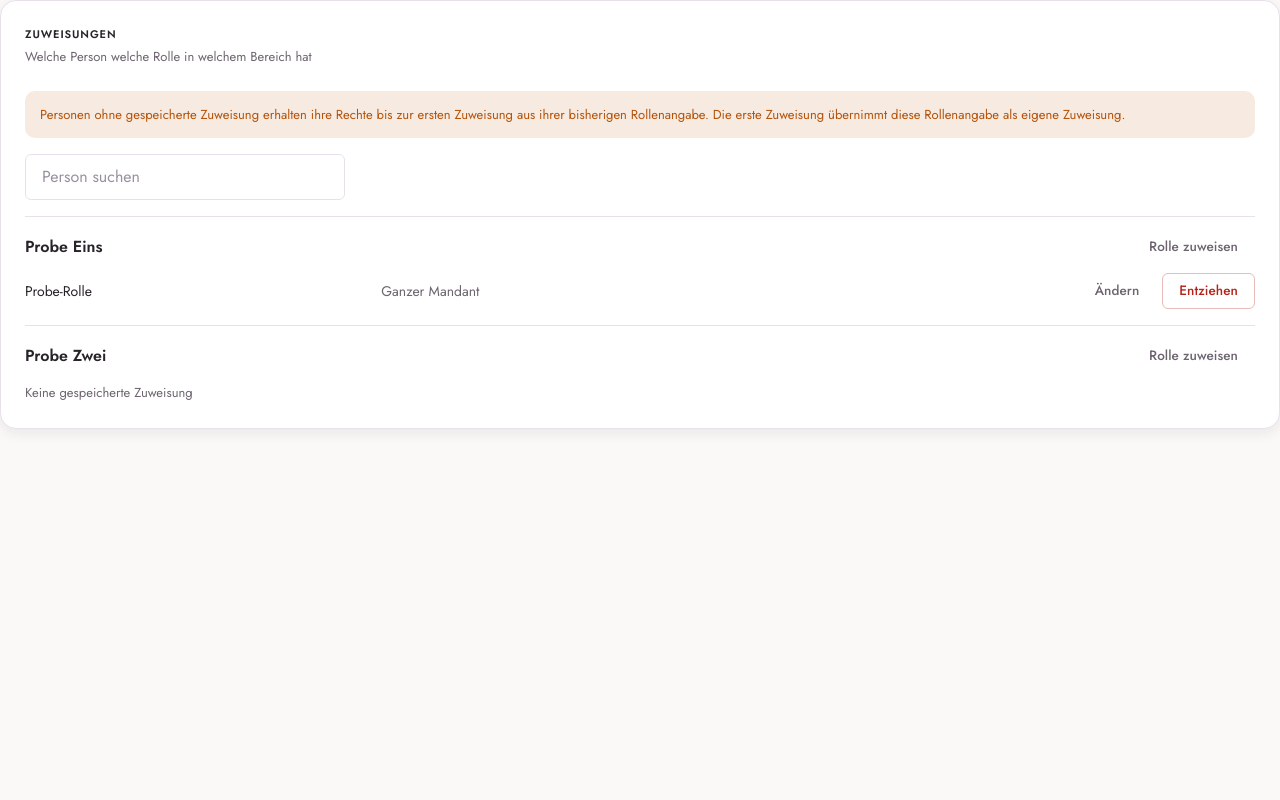
Test: AssignmentsTab (Issue #83) › revoke goes through a confirmation; a rejection is shown, never thrown
The width and height of the screenshot is (1280, 800).
Check: the text "Probe Eins" is shown, box [25,234,102,260]
Click the button "Entziehen" at {"x": 1209, "y": 291}, box [1162,273,1255,309]
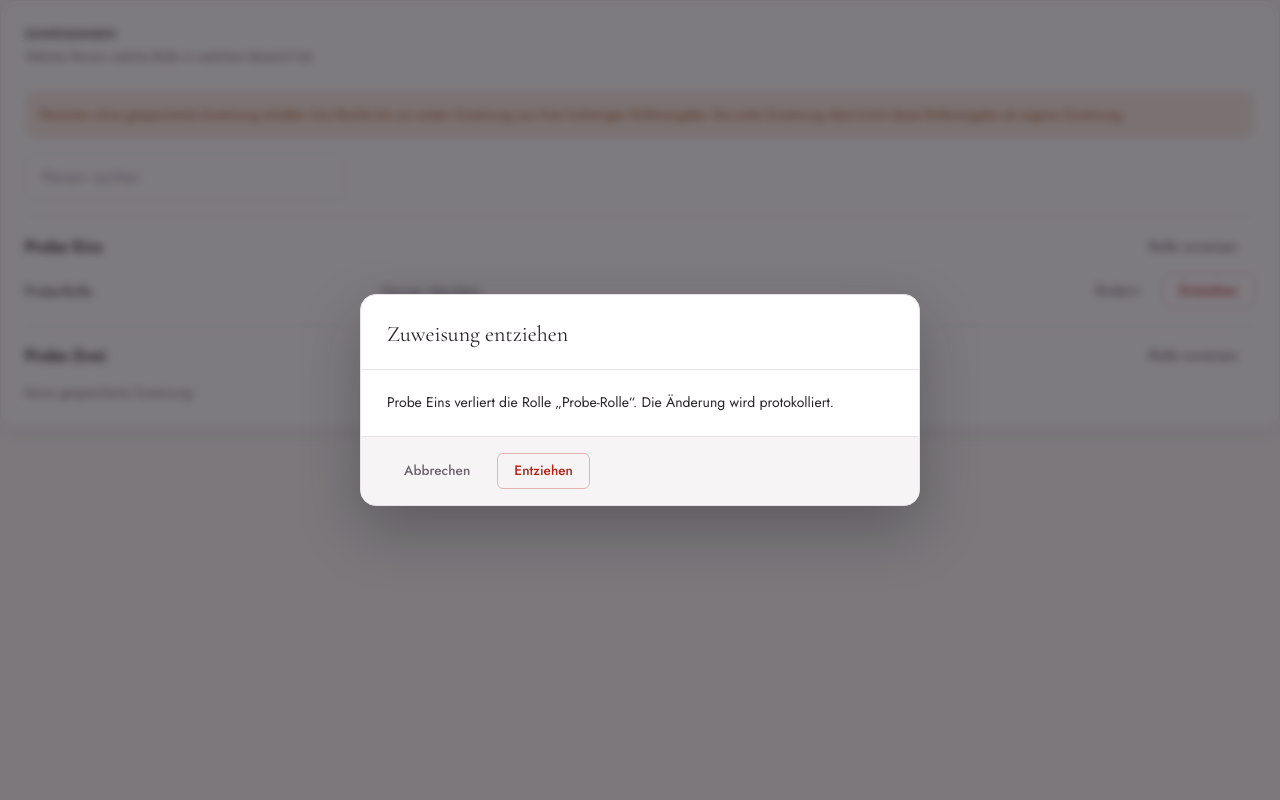
Check: the text "Probe Eins verliert die Rolle „Probe-Rolle“" is shown, box [387,392,834,412]
Click the button "Entziehen" at {"x": 544, "y": 471}, box [497,453,590,489]
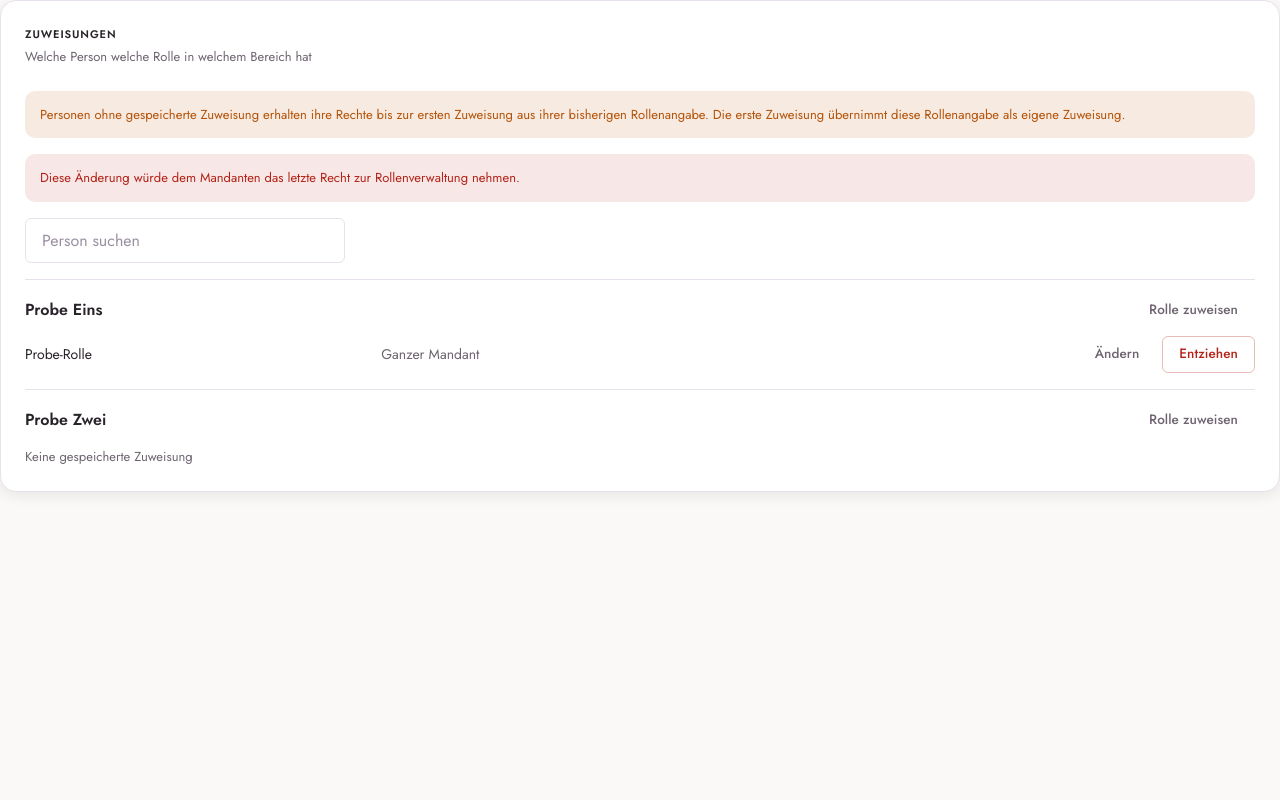
Check: the message reads "Diese Änderung würde dem Mandanten das letzte Recht zur Rollenverwaltung nehmen.", box [40,168,520,187]
Click the button "Entziehen" at {"x": 1209, "y": 355}, box [1162,336,1255,373]
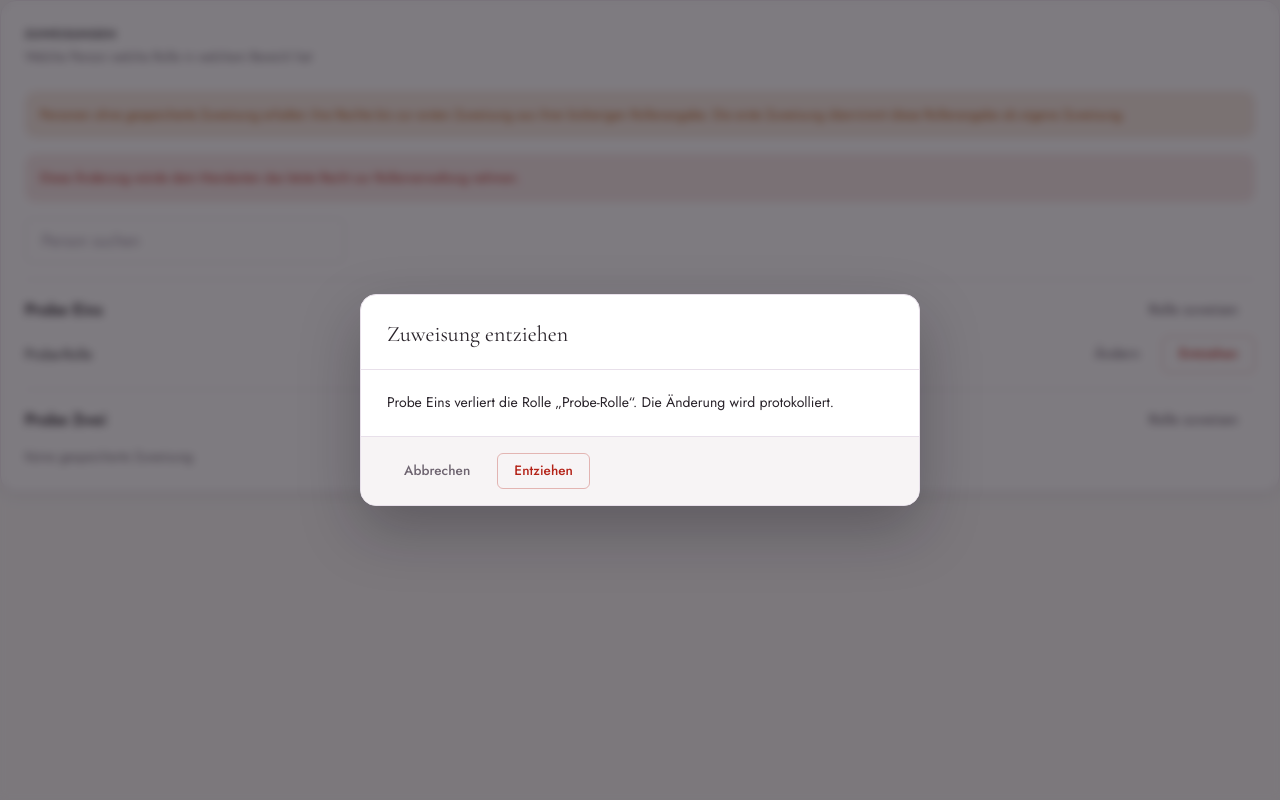
Click the button "Entziehen" at {"x": 544, "y": 471}, box [497,453,590,489]
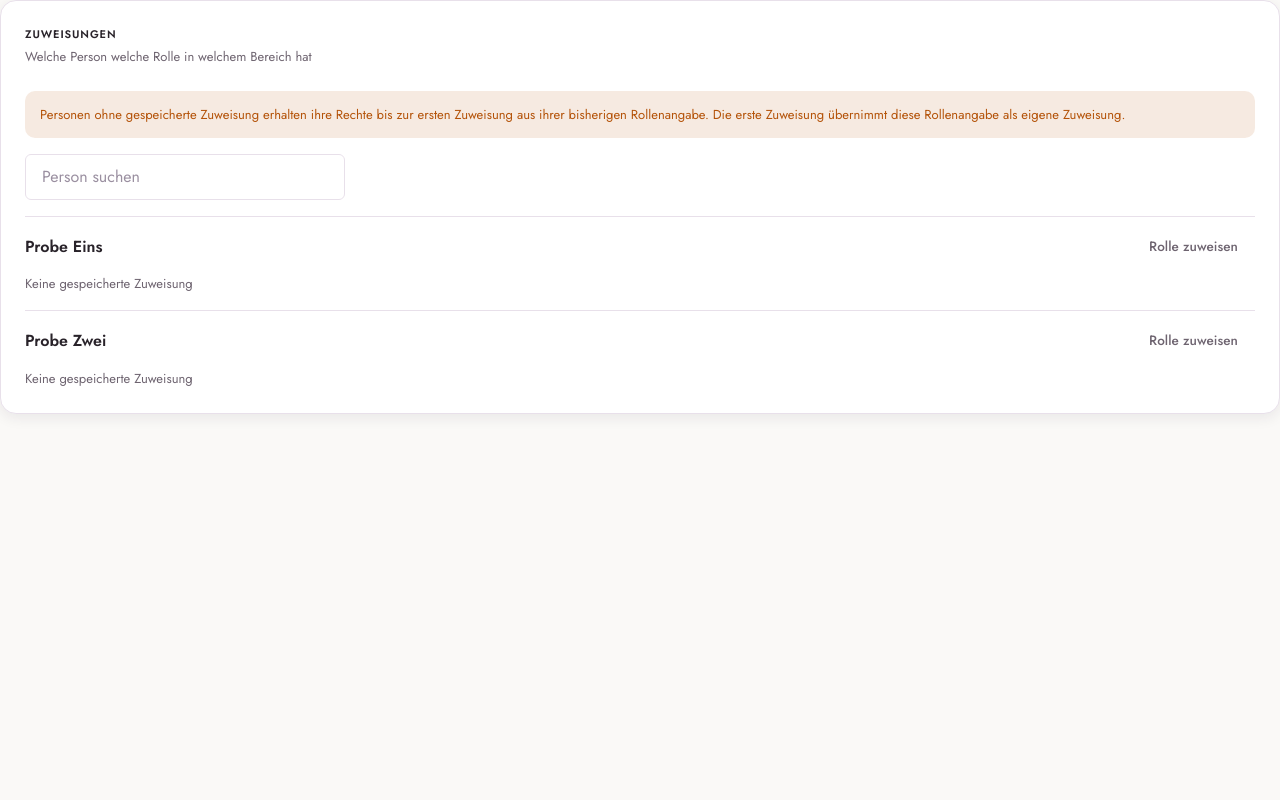
Check: the text "Keine gespeicherte Zuweisung" is shown 2 times, box [25,274,193,293]; [25,369,193,388]
